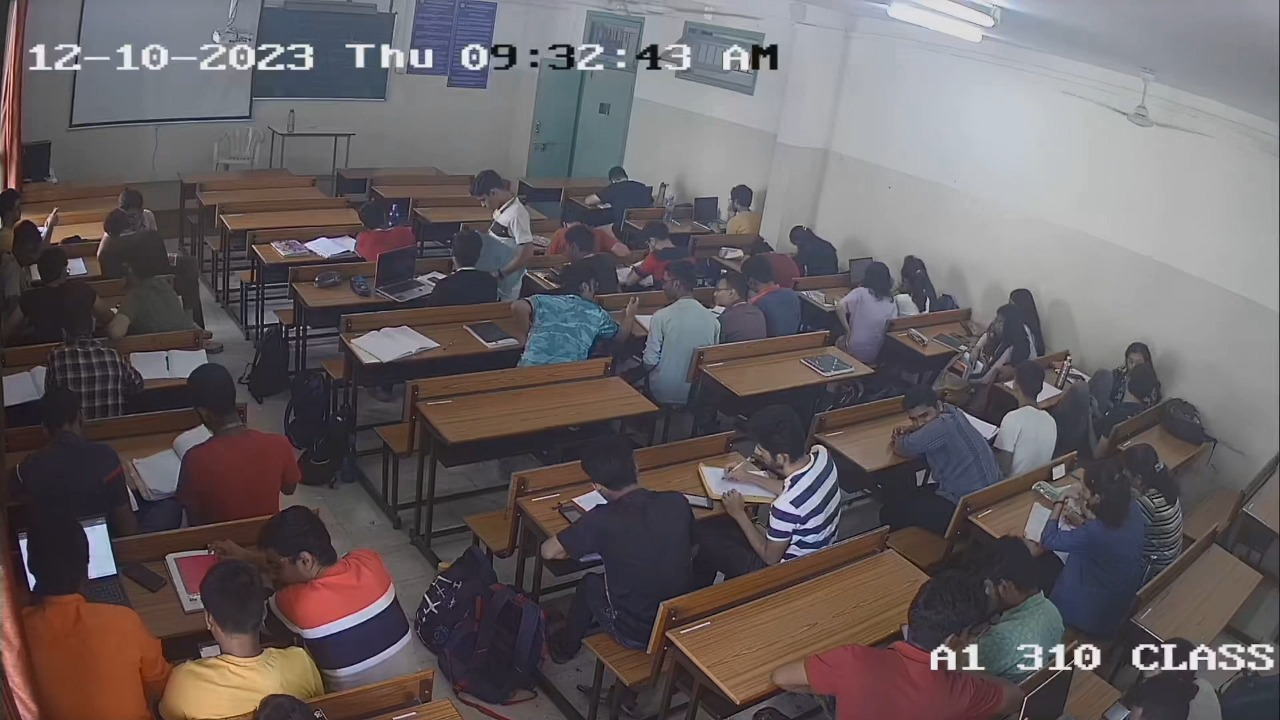cell-phones: (120, 556, 171, 594), (554, 504, 586, 527), (682, 491, 716, 511), (1049, 459, 1068, 483)
person: (22, 513, 173, 715), (545, 439, 694, 576), (723, 403, 844, 555), (1041, 457, 1147, 582)
